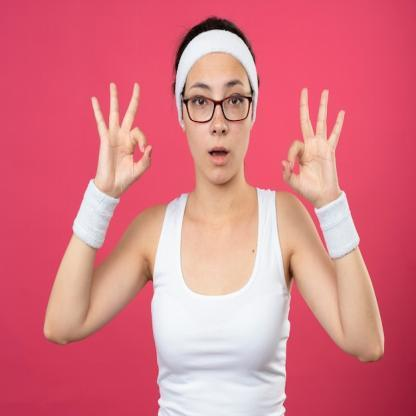ok: (276, 82, 348, 205), (88, 74, 156, 198)
